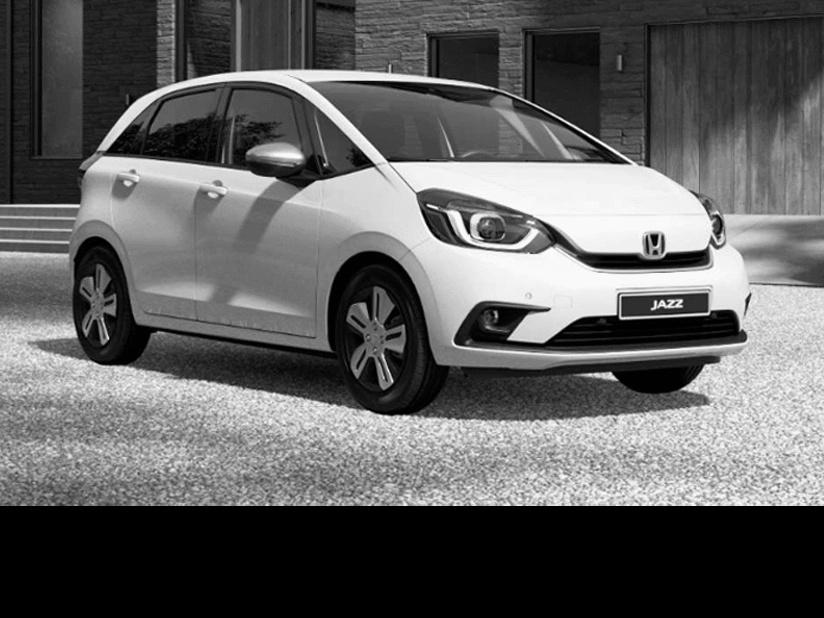Car hood: (416, 248, 761, 382), (388, 157, 716, 256)
Driver-s door - -F-R-: (197, 70, 317, 341)
Fender - -F-R-: (319, 160, 431, 352)
Fender - -R-R-: (76, 181, 129, 312)
Headlight - -L-: (682, 182, 736, 254)
Headlight - -R-: (410, 182, 559, 258)
Passenger-s door - -R-R-: (113, 78, 198, 324)
Rear bumper: (61, 219, 83, 308)
Rear light - -R-: (69, 145, 107, 188)
Side bumper - -R-: (125, 302, 329, 359)
Side mirror - -R-: (238, 137, 319, 195)
